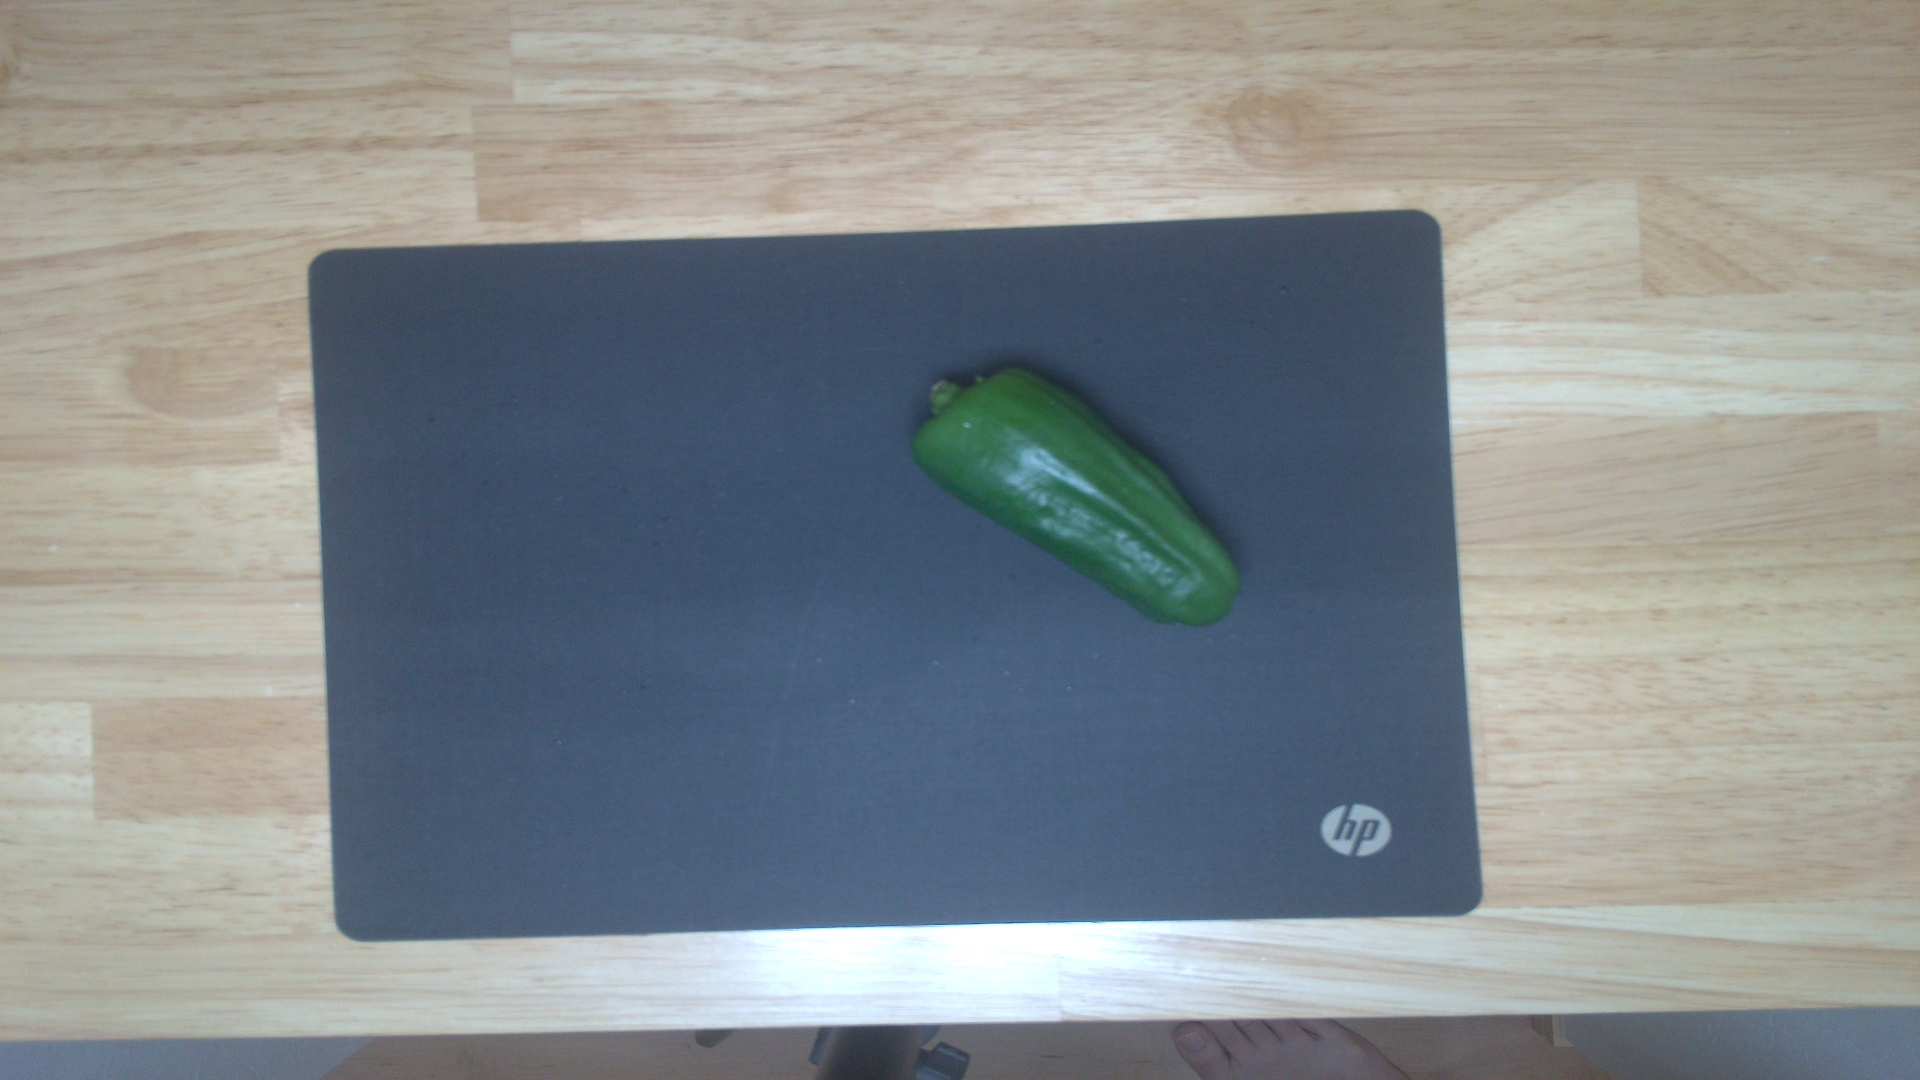Piman: (910, 360, 1244, 626)
